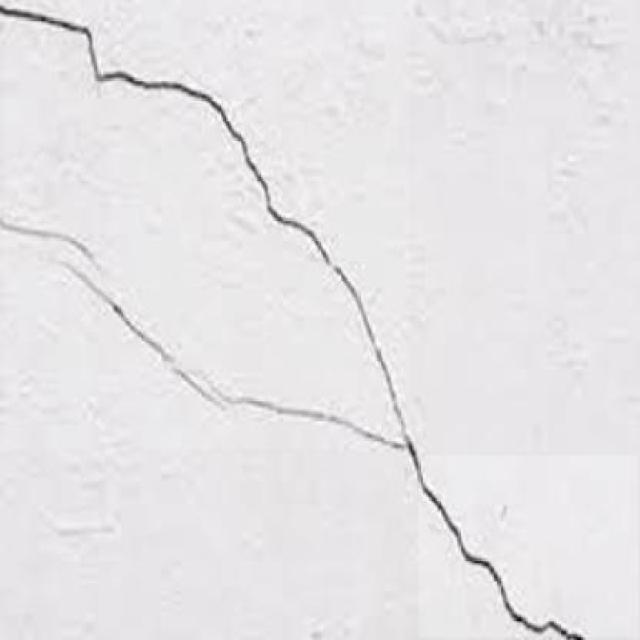Crack: (394, 406, 626, 640), (0, 3, 277, 185), (231, 187, 472, 325), (57, 267, 212, 411), (355, 326, 489, 407), (219, 396, 388, 450), (0, 211, 108, 256)
